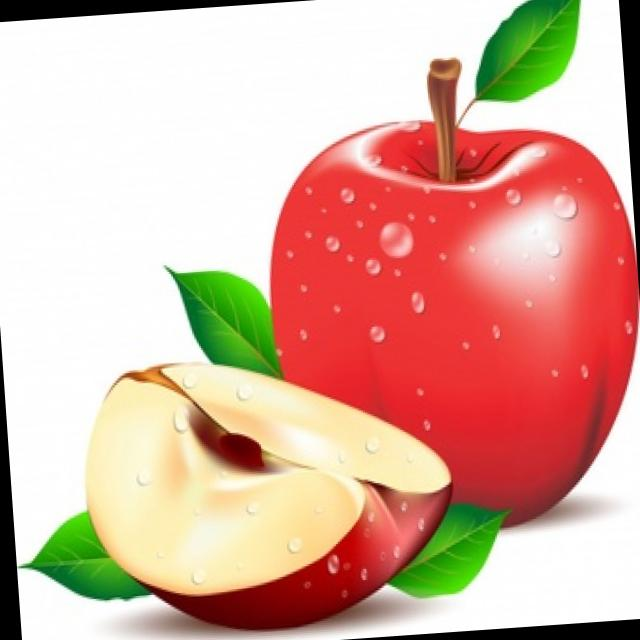apple: (257, 98, 640, 573)
